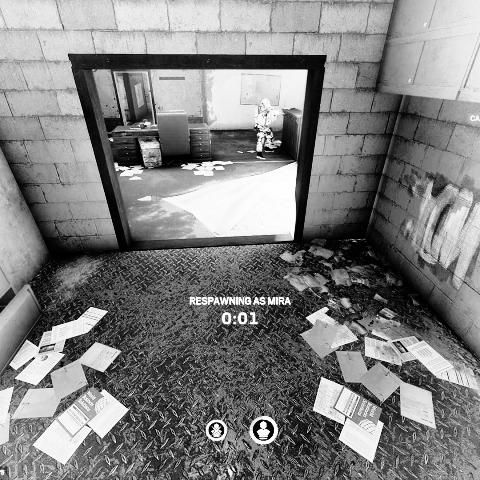Character: (253, 97, 281, 160)
Head: (261, 98, 271, 110)
